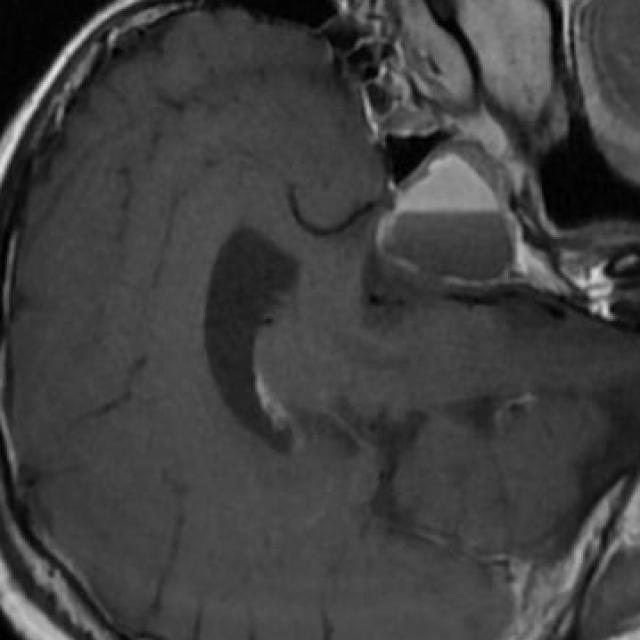pituitary: (376, 155, 515, 289)
